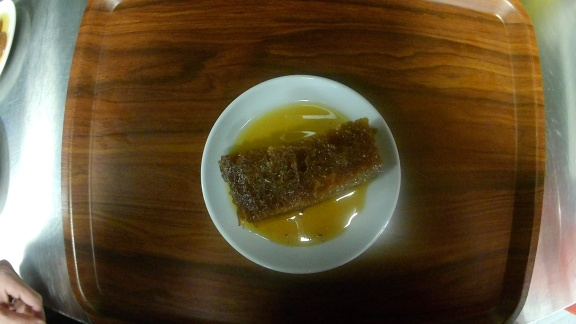ekmekkadayifi: (200, 75, 403, 274)
